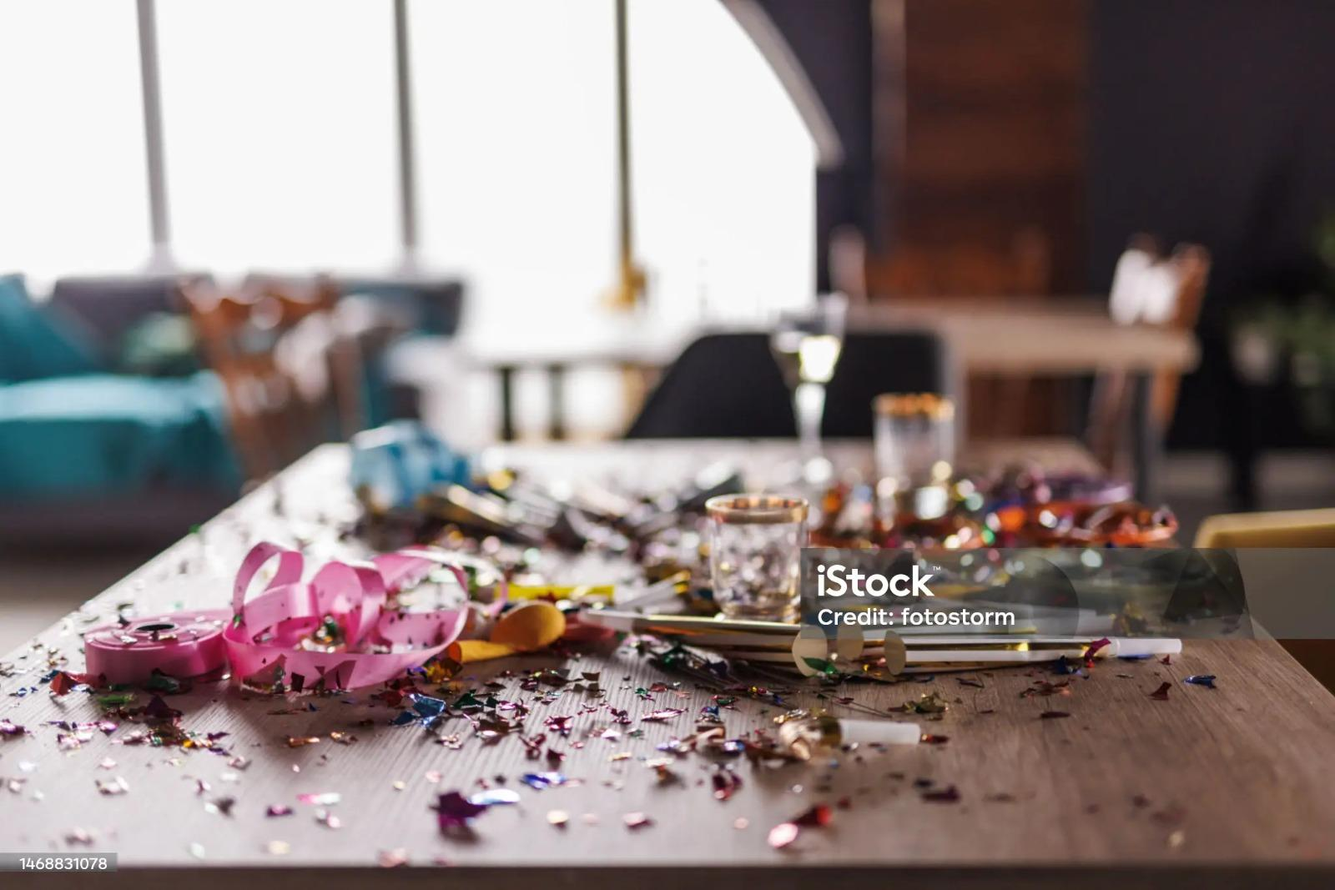Messy Table: (7, 282, 1335, 890)
